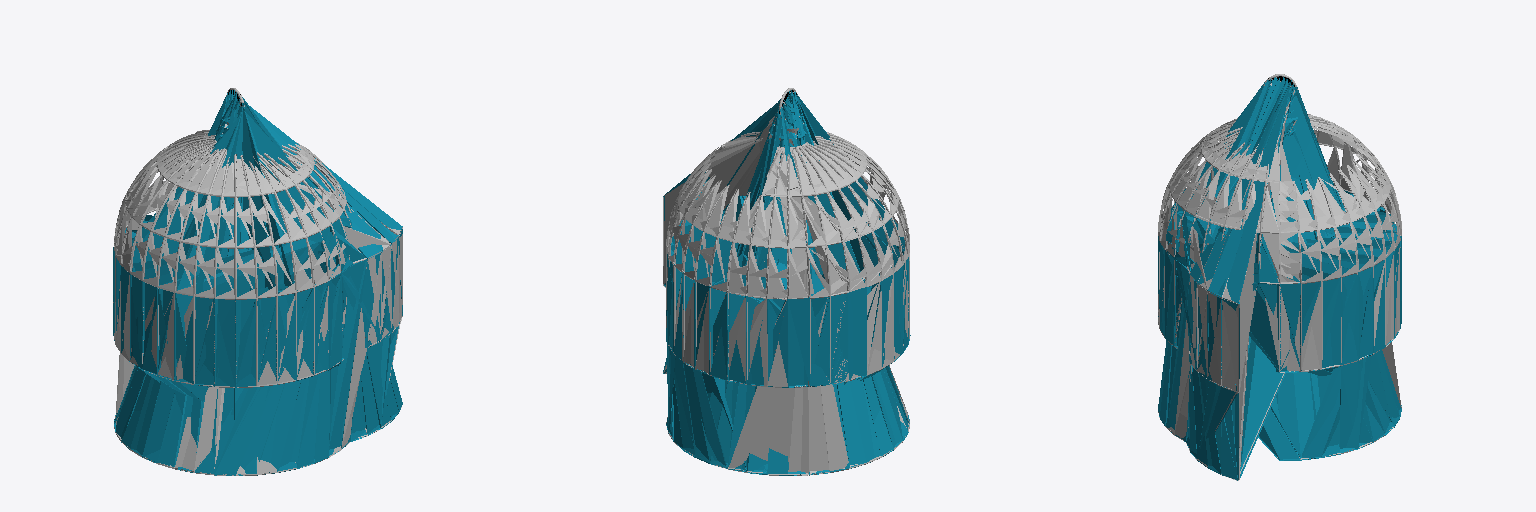
Rendered from birdcage.obj.
The picture shows the model from 3 angles: view 1: azimuth 30°, elevation 25°; view 2: azimuth 150°, elevation 25°; view 3: azimuth 270°, elevation 25°; orthographic projection.
Visible parts, largest first — view 1: Cylinder001, Capsule001; view 2: Capsule001, Cylinder001; view 3: Cylinder001, Capsule001.
Part boxes in pixels (x1,y1,x2,y2): Cylinder001: (113,90,402,475); Capsule001: (113,101,402,475); Capsule001: (663,112,909,475); Cylinder001: (663,90,910,475); Cylinder001: (1158,77,1401,480); Capsule001: (1158,79,1401,480).
Size of the model in its own units: 20.13 by 26.24 by 16.89.